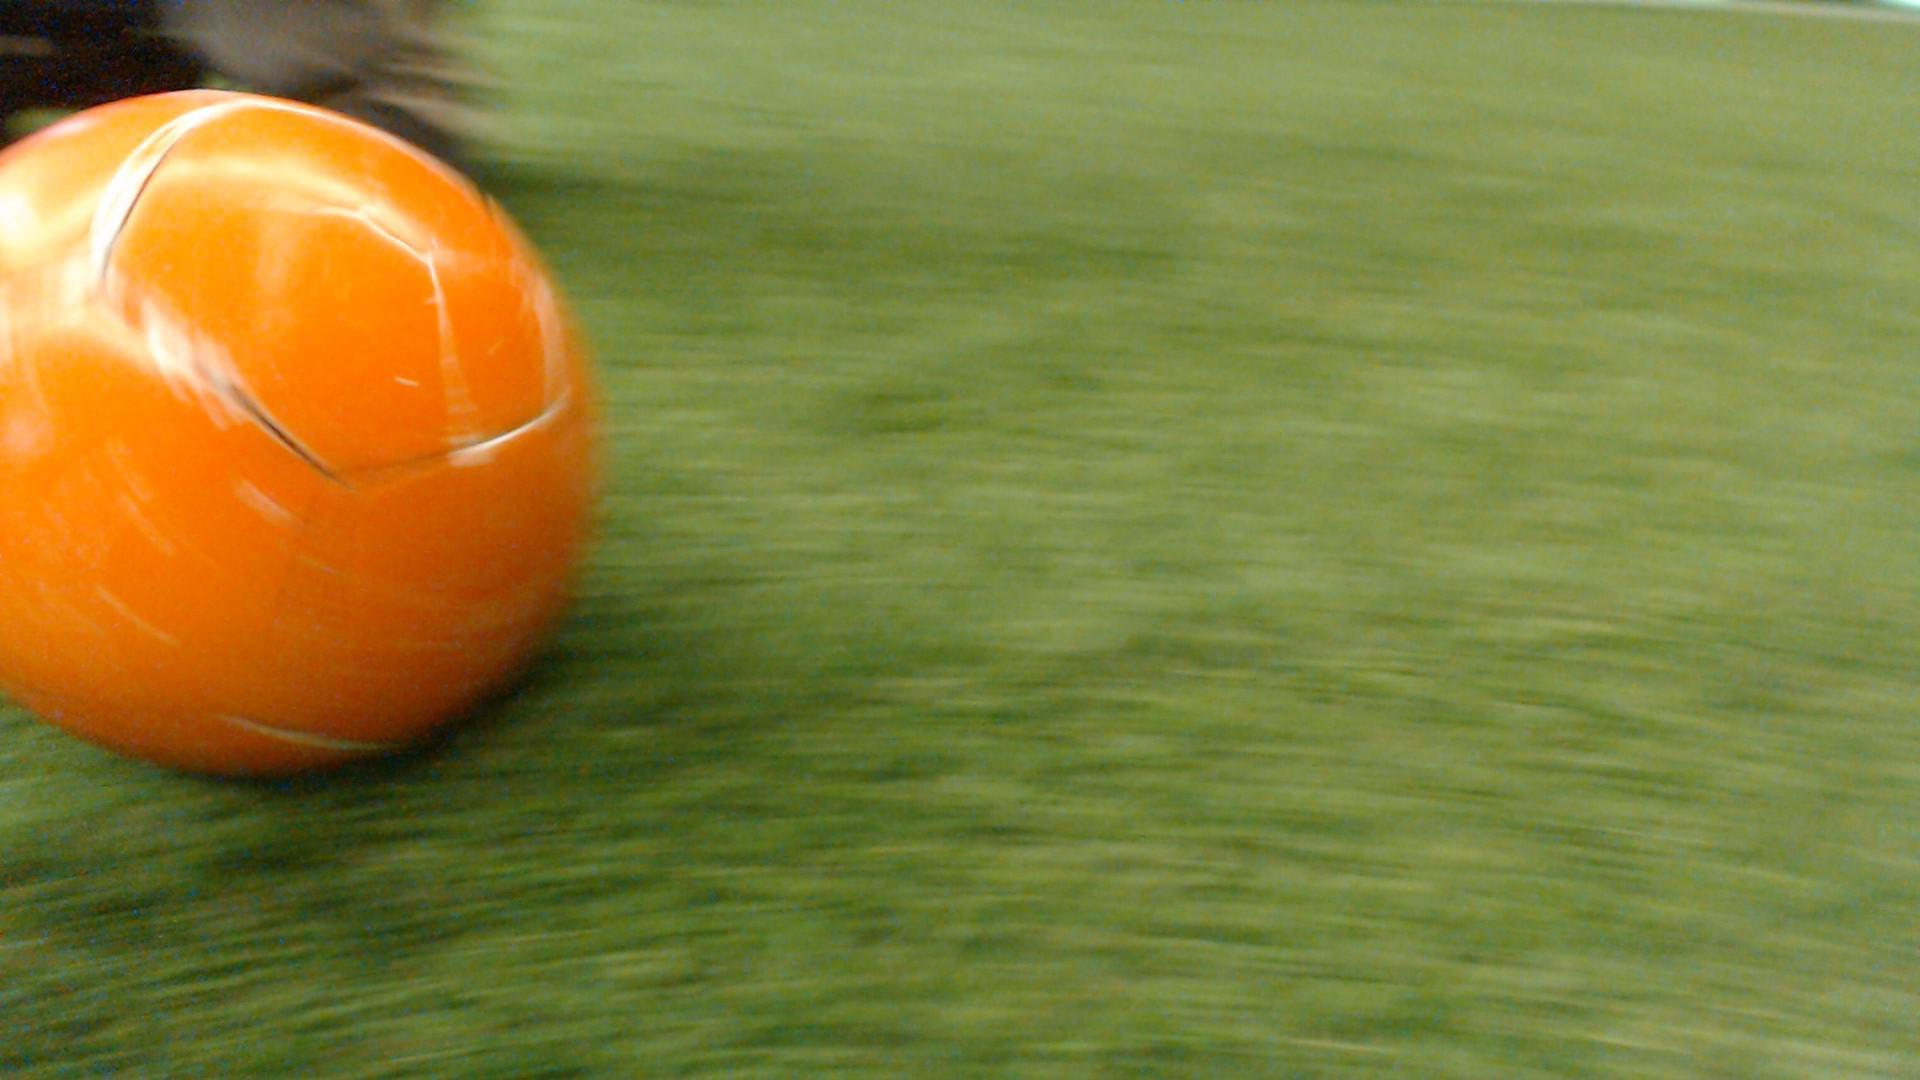bola: (1, 88, 617, 793)
